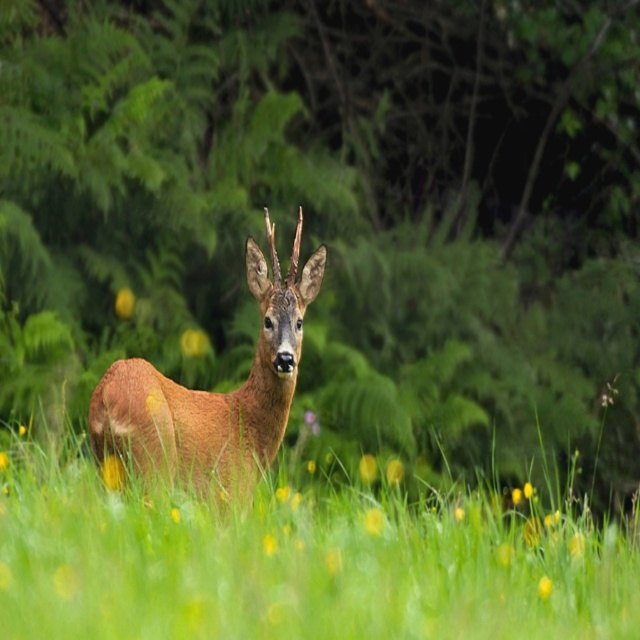Deer: (88, 207, 325, 506)
